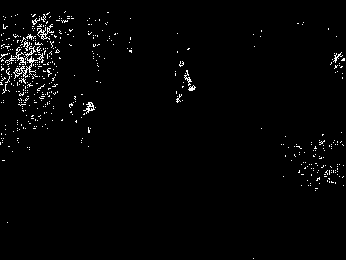person: (172, 59, 196, 106)
